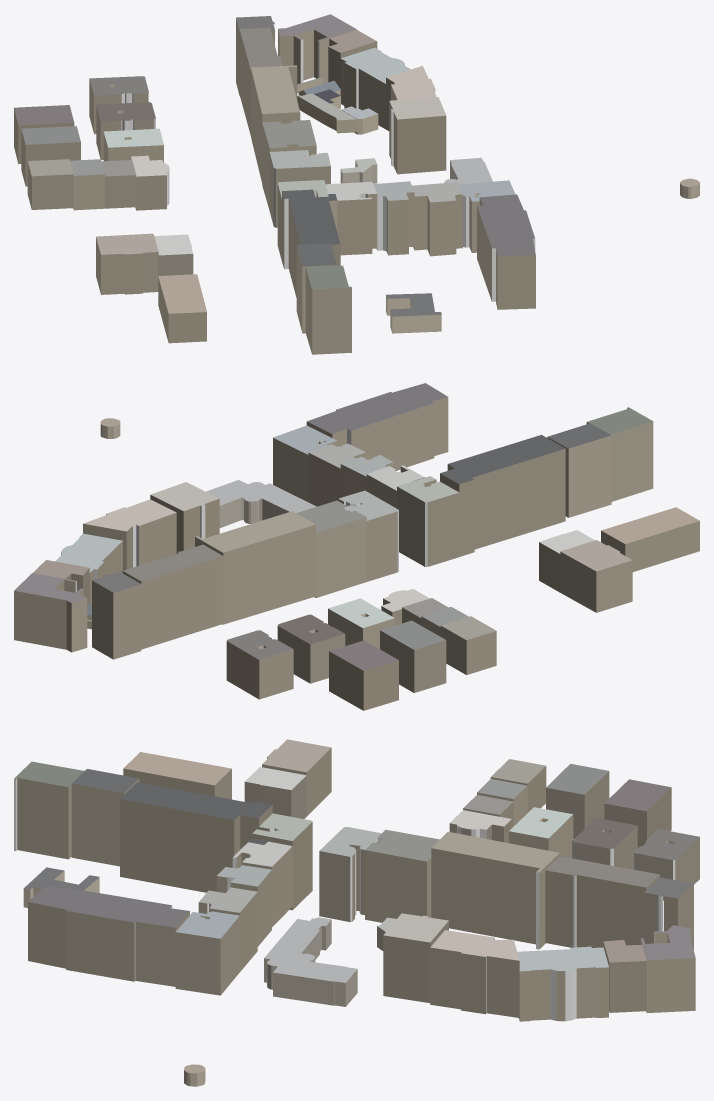
The picture shows the model from 3 angles, top to bottom: view 1: azimuth 30°, elevation 25°; view 2: azimuth 150°, elevation 25°; view 3: azimuth 270°, elevation 25°; orthographic projection. The views are drawn at different scales.
Parts seen in each view (by area): view 1: tuile; view 2: tuile; view 3: tuile.
Part boxes in pixels (x1,y1,x2,y2): tuile: (14, 14, 699, 354); tuile: (14, 383, 699, 710); tuile: (14, 739, 699, 1086).
Bounding box in the file's own units: 266 × 35.49 × 257.
